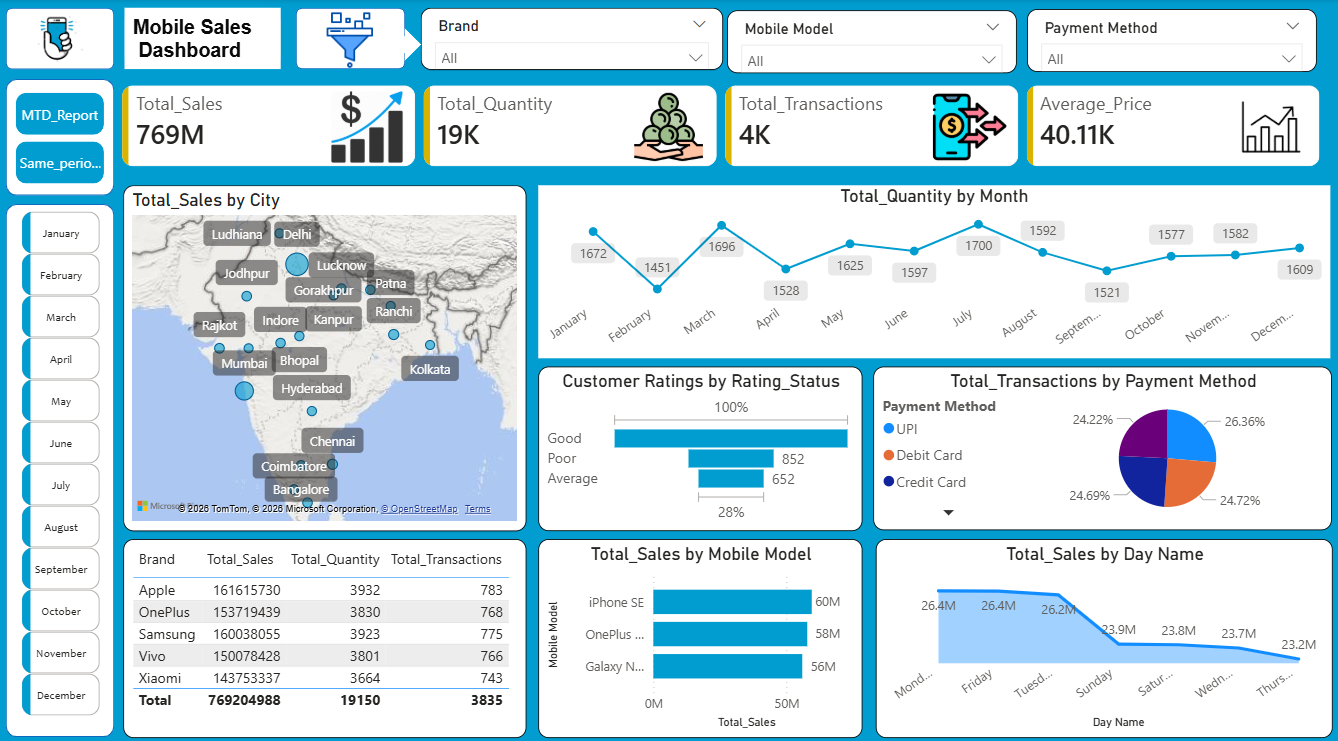

This screenshot's page, from the dashboard's own definition file:
{"tool":"powerbi","page":{"name":"Dashboard","canvas":[1280,720],"ordinal":0},"visuals":[{"type":"shape","box":[8.9,8.9,103.3,58.9],"z":0},{"type":"image","box":[20,11.1,73.3,56.7],"z":1000},{"type":"shape","box":[8.9,76.7,103.3,111.1],"z":1500},{"type":"shape","title":"Mobile Sales Dashboard","box":[121.4,8.6,148.6,58.6],"z":2000},{"type":"shape","box":[8.9,195.6,103.3,507.8],"z":4000},{"type":"advancedSlicerVisual","fields":{"Values":["Date.Date.Variation.Date Hierarchy.Month"]},"box":[18.9,197.8,84.4,495.6],"z":5000},{"type":"cardVisual","fields":{"Data":["MObile.Total_Sales","MObile.Total_Quantity","MObile.Total_Transactions","MObile.Average_Price"]},"box":[102.9,65.9,1177.4,111.1],"z":6000},{"type":"slicer","fields":{"Values":["MObile.Brand"]},"box":[403.4,8.2,288.2,59],"z":7000},{"type":"shape","box":[284.3,8.6,104.3,58.6],"z":8000},{"type":"slicer","fields":{"Values":["MObile.Mobile Model"]},"box":[695.7,11,275.8,60.4],"z":9000},{"type":"image","box":[297.1,11.4,77.1,54.3],"z":10000},{"type":"shape","box":[362.9,27.1,41,32],"z":11000},{"type":"slicer","fields":{"Values":["MObile.Payment Method"]},"box":[981.1,9.6,275.8,60.4],"z":12000},{"type":"textbox","box":[102.9,11.4,167.1,54.3],"z":13000},{"type":"map","fields":{"Category":["MObile.City"],"Size":["MObile.Total_Sales"]},"box":[120.8,177,384.2,329.3],"z":14000},{"type":"lineChart","fields":{"Y":["MObile.Total_Quantity"],"Category":["Date.Date.Variation.Date Hierarchy.Month"]},"box":[516,177,754.7,164.7],"z":15000},{"type":"funnel","title":" Customer Ratings by Rating_Status","fields":{"Y":["CountNonNull(MObile.Customer Ratings)"],"Category":["MObile.Rating_Status"]},"box":[516,349.9,308.7,156.4],"z":16000},{"type":"pieChart","fields":{"Category":["MObile.Payment Method"],"Y":["MObile.Total_Transactions"]},"box":[834.5,350,436.9,156],"z":17000},{"type":"clusteredBarChart","fields":{"Y":["MObile.Total_Sales"],"Category":["MObile.Mobile Model"]},"box":[516,514.6,308.7,189.4],"z":18000},{"type":"areaChart","fields":{"Category":["Date.Day Name"],"Y":["MObile.Total_Sales"]},"box":[837.1,514.6,435,189.4],"z":19000},{"type":"tableEx","fields":{"Values":["MObile.Brand","MObile.Total_Sales","MObile.Total_Quantity","MObile.Total_Transactions"]},"box":[120.8,514.6,384.2,189.4],"z":20000},{"type":"pageNavigator","box":[17.9,89.3,84.5,86.9],"z":21000}]}

Visuals, with their boxes in screenshot pixels (x1, y1, x2, y2), scaled from the page's 1280x720 canvas onto the 1338x741 screenshot:
shape: [x1=9, y1=9, x2=117, y2=70]
image: [x1=21, y1=11, x2=98, y2=70]
shape: [x1=9, y1=79, x2=117, y2=193]
"Mobile Sales Dashboard" shape: [x1=127, y1=9, x2=282, y2=69]
shape: [x1=9, y1=201, x2=117, y2=724]
advancedSlicerVisual - Date.Date.Variation.Date Hierarchy.Month: [x1=20, y1=204, x2=108, y2=714]
cardVisual - MObile.Total_Sales x MObile.Total_Quantity: [x1=108, y1=68, x2=1337, y2=182]
slicer - MObile.Brand: [x1=422, y1=8, x2=723, y2=69]
shape: [x1=297, y1=9, x2=406, y2=69]
slicer - MObile.Mobile Model: [x1=727, y1=11, x2=1016, y2=73]
image: [x1=311, y1=12, x2=391, y2=68]
shape: [x1=379, y1=28, x2=422, y2=61]
slicer - MObile.Payment Method: [x1=1026, y1=10, x2=1314, y2=72]
textbox: [x1=108, y1=12, x2=282, y2=68]
map - MObile.City x MObile.Total_Sales: [x1=126, y1=182, x2=528, y2=521]
lineChart - MObile.Total_Quantity x Date.Date.Variation.Date Hierarchy.Month: [x1=539, y1=182, x2=1328, y2=352]
" Customer Ratings by Rating_Status" funnel: [x1=539, y1=360, x2=862, y2=521]
pieChart - MObile.Payment Method x MObile.Total_Transactions: [x1=872, y1=360, x2=1329, y2=521]
clusteredBarChart - MObile.Total_Sales x MObile.Mobile Model: [x1=539, y1=530, x2=862, y2=725]
areaChart - Date.Day Name x MObile.Total_Sales: [x1=875, y1=530, x2=1330, y2=725]
tableEx - MObile.Brand x MObile.Total_Sales: [x1=126, y1=530, x2=528, y2=725]
pageNavigator: [x1=19, y1=92, x2=107, y2=181]
